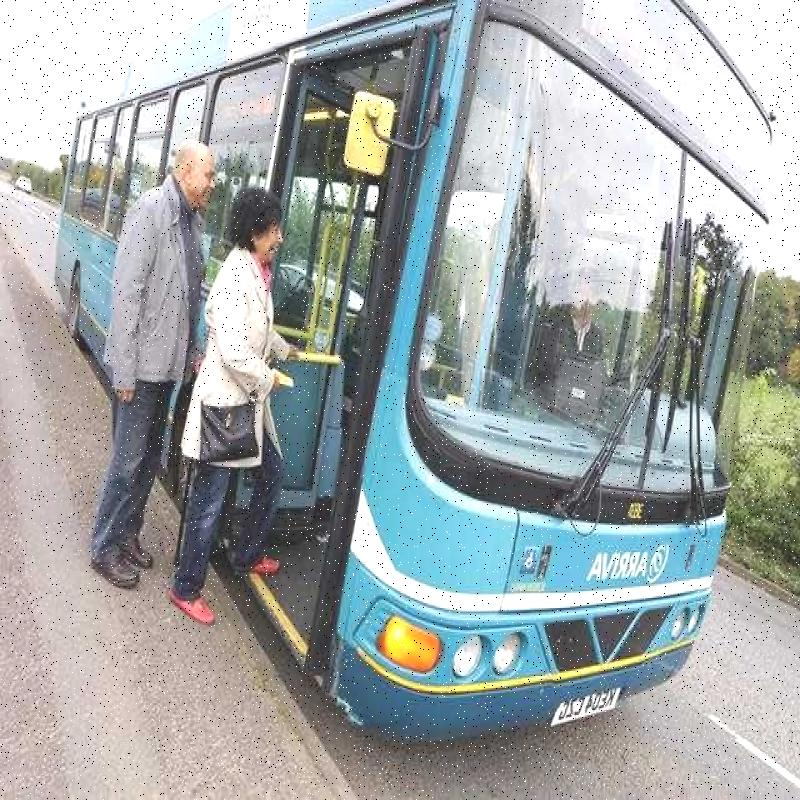bus: (45, 0, 780, 738)
